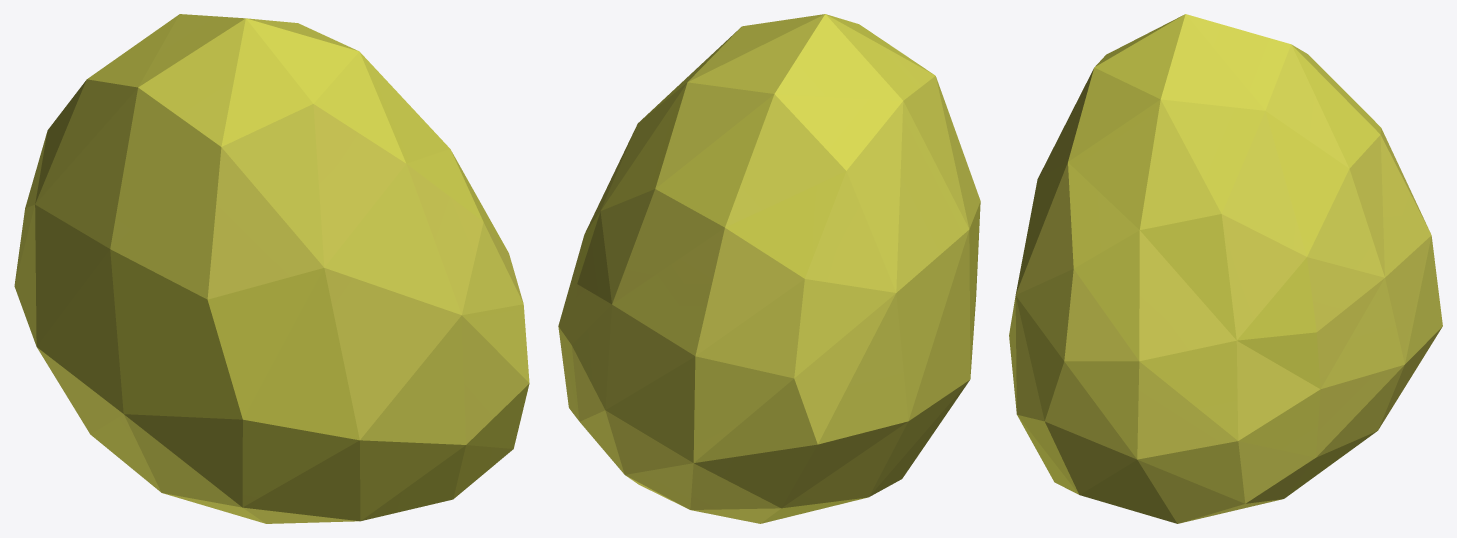
Rendered from bush2.fbx.
3 views of the same model, side by side, from view 1: azimuth 30°, elevation 25°; view 2: azimuth 150°, elevation 25°; view 3: azimuth 270°, elevation 25° (orthographic). The views are drawn at different scales.
Visible parts, largest first — view 1: Roundcube.004; view 2: Roundcube.004; view 3: Roundcube.004.
Boxes of the visible parts, x1,y1,x2,y2 form: Roundcube.004: (14, 14, 529, 523); Roundcube.004: (558, 14, 980, 523); Roundcube.004: (1009, 14, 1442, 523).
Bounding box in the file's own units: 321 × 380 × 337.
